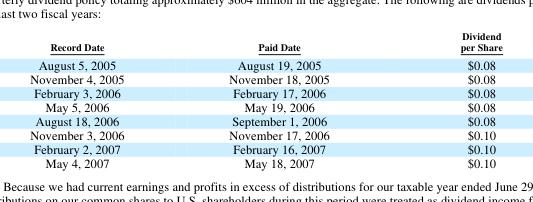table: (29, 28, 501, 170)
table column: (175, 28, 394, 170), (29, 28, 175, 170), (394, 28, 501, 170)
table column header: (29, 28, 501, 41)
table row: (29, 54, 501, 71), (29, 155, 501, 170), (29, 71, 501, 85), (29, 85, 501, 99), (29, 99, 501, 113), (29, 113, 501, 127), (29, 127, 501, 141), (29, 141, 501, 155), (29, 28, 501, 41), (29, 41, 501, 54)
